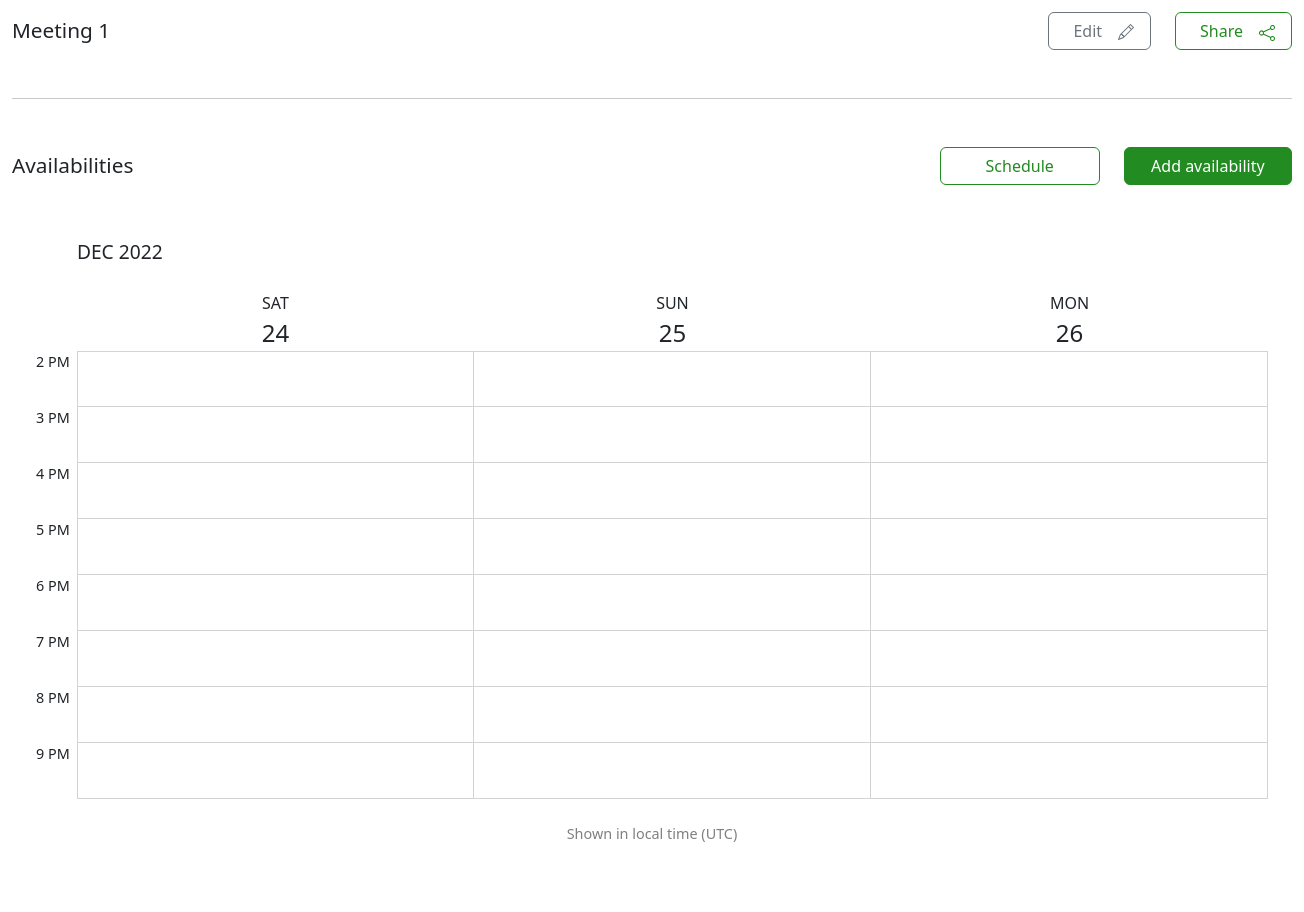
Scenario: renders the external event boxes
Check: the text "Meeting 1" is shown, box [12,15,110,47]
Click the button "Add availability".
click(1208, 166)  # box [1124,147,1292,185]
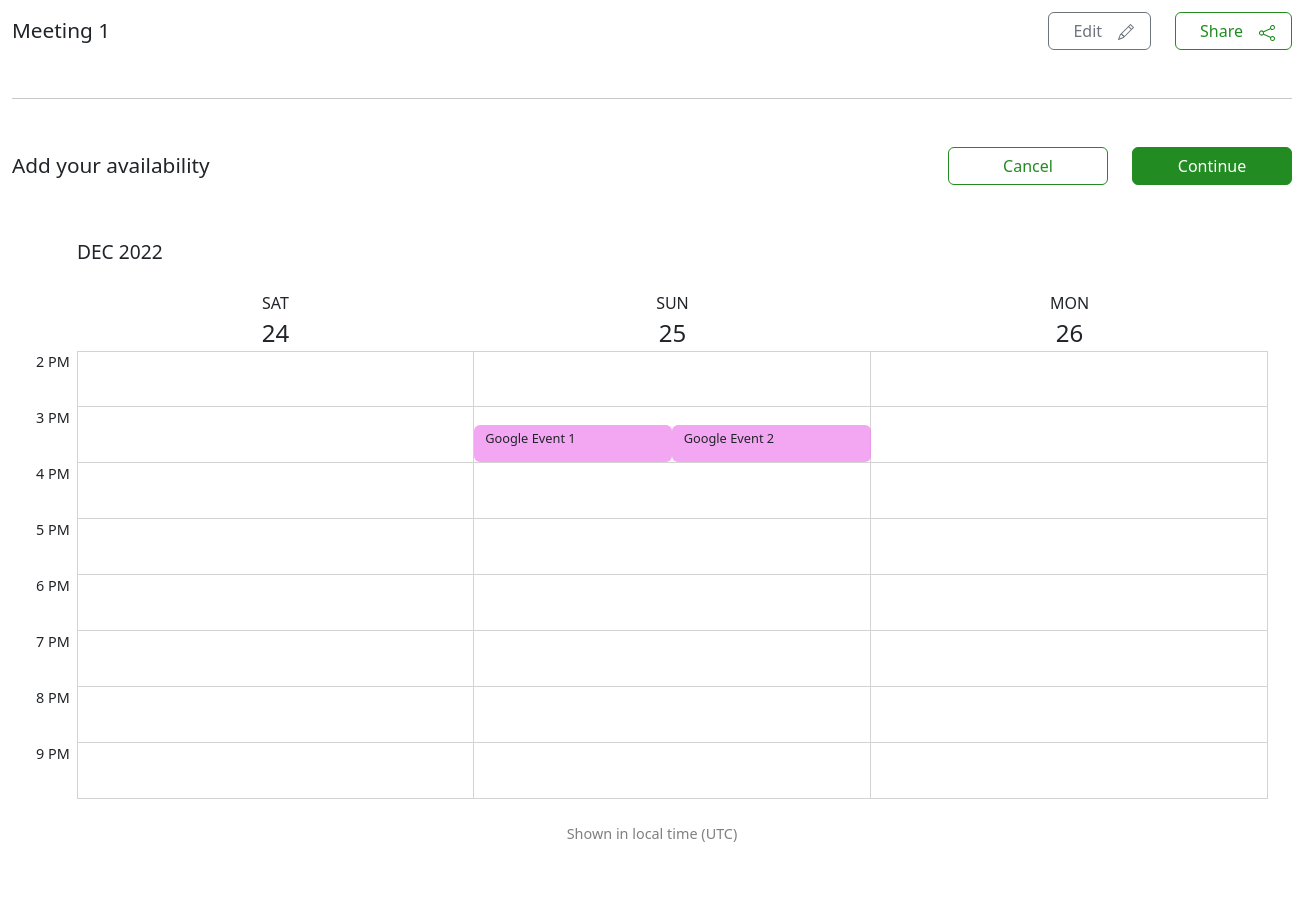
Check: the text "Google Event 1" is shown, box [485,429,576,447]
